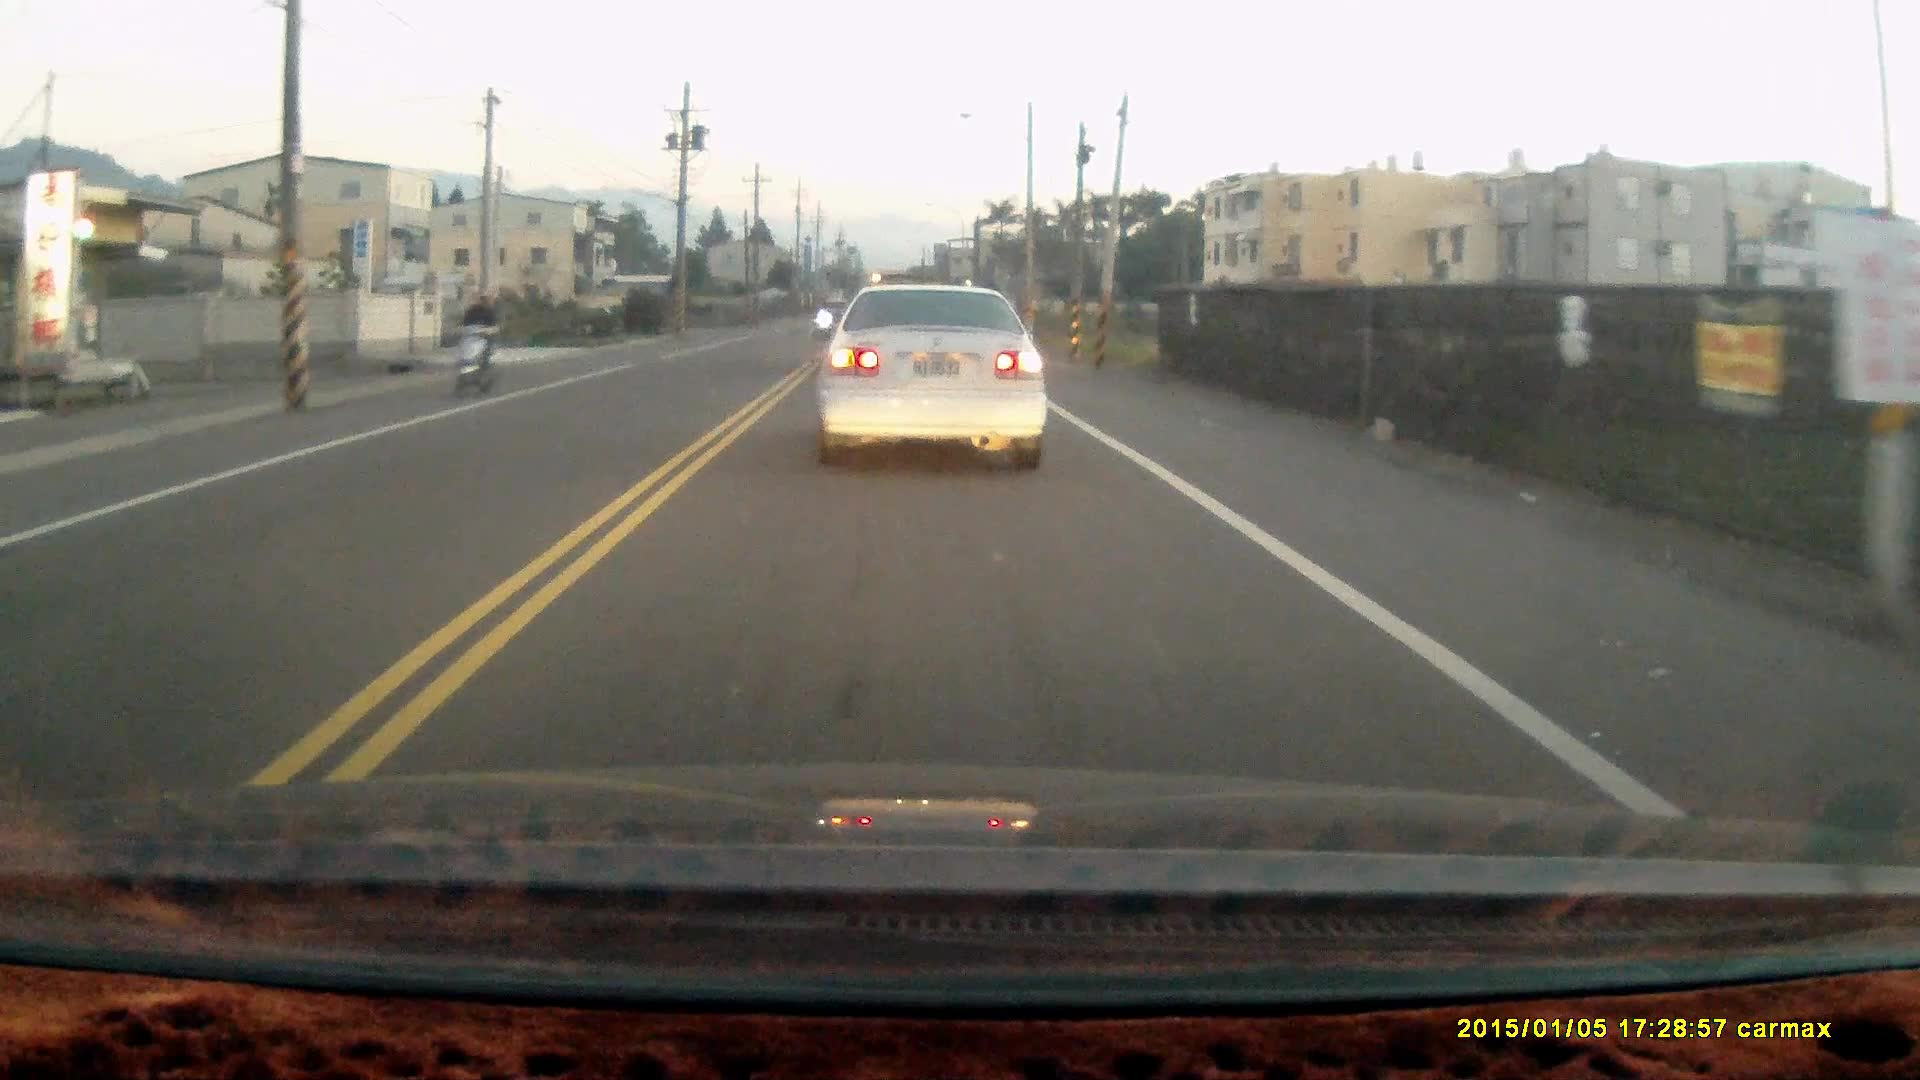rider: (445, 285, 501, 405)
vehicle: (811, 281, 1048, 472)
